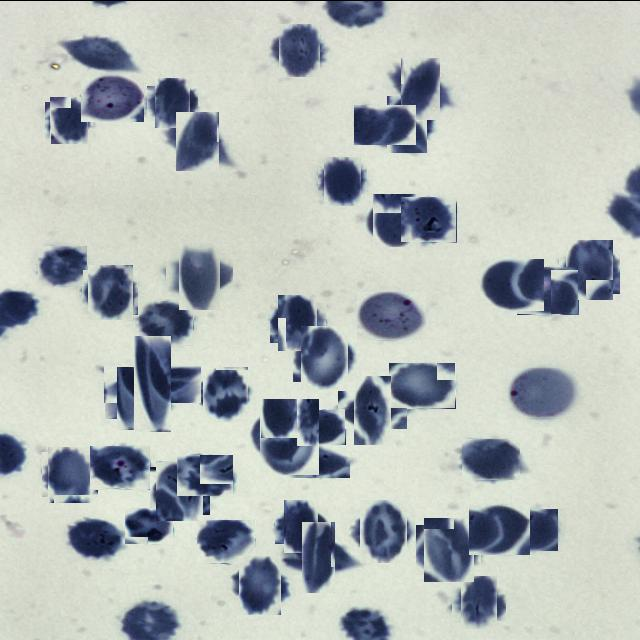red blood cell: (256, 402, 324, 470), (119, 350, 186, 417), (479, 258, 544, 310), (420, 520, 478, 578), (355, 502, 411, 558), (297, 329, 353, 385), (389, 362, 456, 408), (469, 504, 530, 554), (517, 266, 579, 314), (172, 248, 227, 302), (562, 242, 616, 296), (346, 382, 400, 436), (153, 463, 207, 517), (292, 530, 345, 582), (172, 114, 224, 166), (111, 372, 163, 424), (235, 559, 286, 610), (84, 266, 136, 316), (197, 518, 256, 562), (401, 196, 457, 242), (45, 448, 95, 499), (396, 63, 446, 114), (200, 368, 250, 418), (62, 36, 135, 70), (354, 104, 416, 144), (462, 438, 521, 480), (139, 300, 194, 345), (500, 508, 558, 550), (382, 100, 432, 148), (177, 454, 234, 496), (67, 518, 124, 559), (280, 444, 350, 477), (275, 26, 323, 74), (274, 298, 322, 346), (370, 196, 418, 243), (288, 408, 346, 446), (456, 580, 502, 624), (36, 245, 86, 285), (280, 503, 324, 548), (320, 158, 364, 202), (151, 81, 194, 124), (125, 507, 174, 544), (48, 98, 90, 141)
ring: (508, 367, 578, 417), (357, 291, 426, 339), (81, 73, 144, 121), (90, 444, 151, 488)
